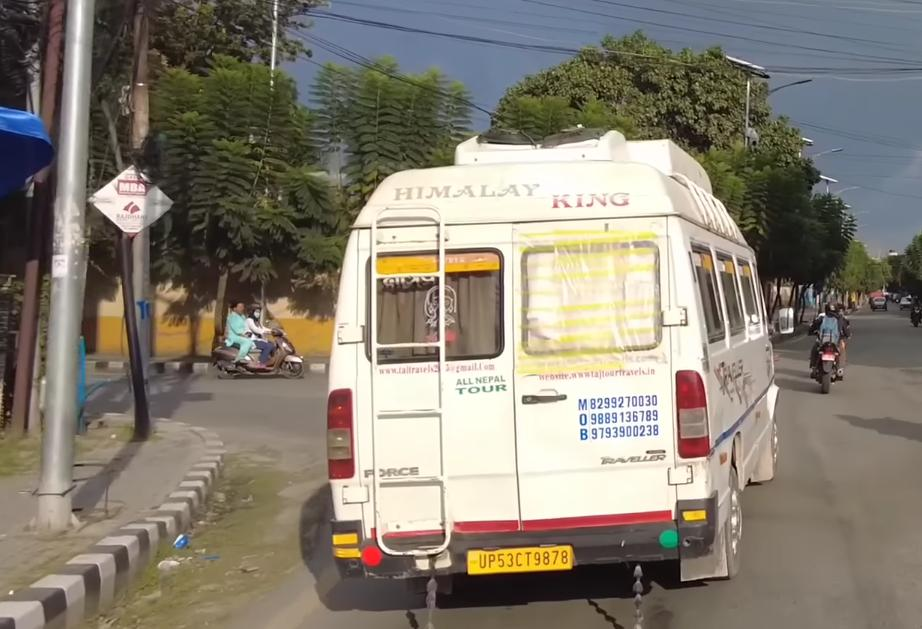bike: (808, 320, 848, 396)
micro_bus: (314, 128, 786, 599)
scooter: (209, 324, 309, 385)
